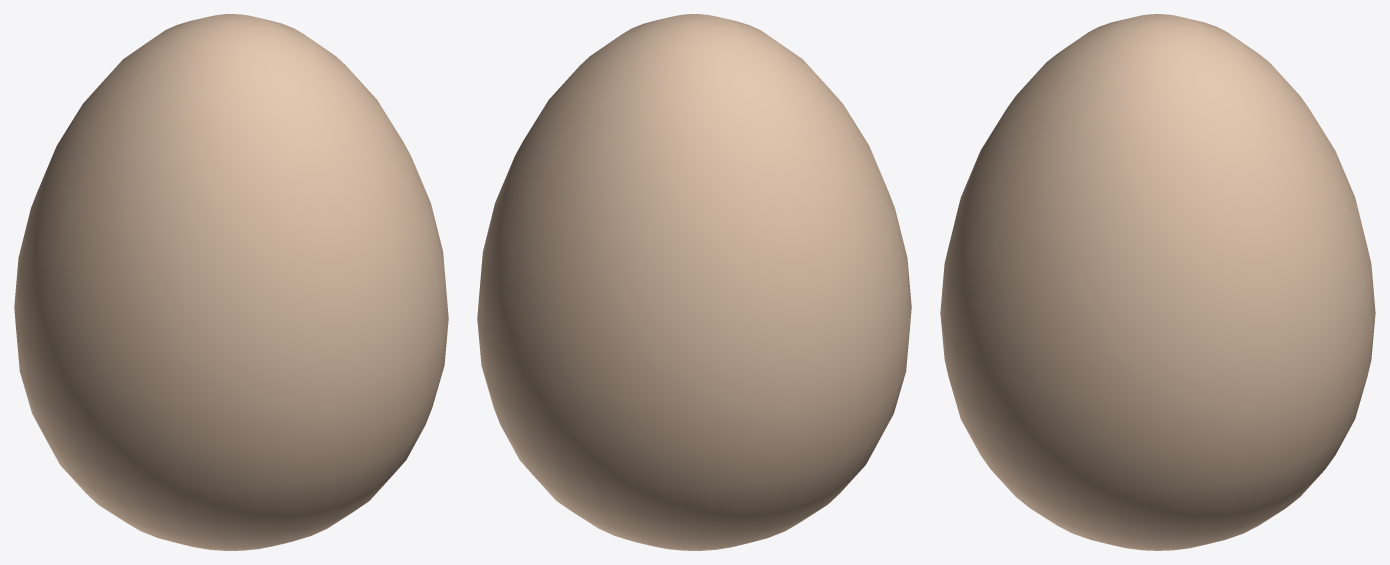
The picture shows the model from 3 angles, left to right: view 1: azimuth 30°, elevation 25°; view 2: azimuth 150°, elevation 25°; view 3: azimuth 270°, elevation 25°; orthographic projection.
Visible parts, largest first — view 1: Ei; view 2: Ei; view 3: Ei.
Boxes of the visible parts, x1,y1,x2,y2 form: Ei: [14, 14, 448, 550]; Ei: [477, 14, 911, 550]; Ei: [940, 14, 1375, 550].
Size of the model in its own units: 200 by 256 by 200.
